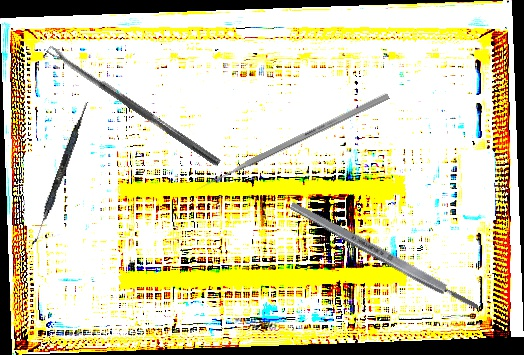Pusher: (194, 92, 390, 193)
Scalpel Handle: (288, 198, 481, 314)
Spatula Surgical: (31, 99, 90, 248)
Surgical Spoon: (46, 44, 222, 167)
